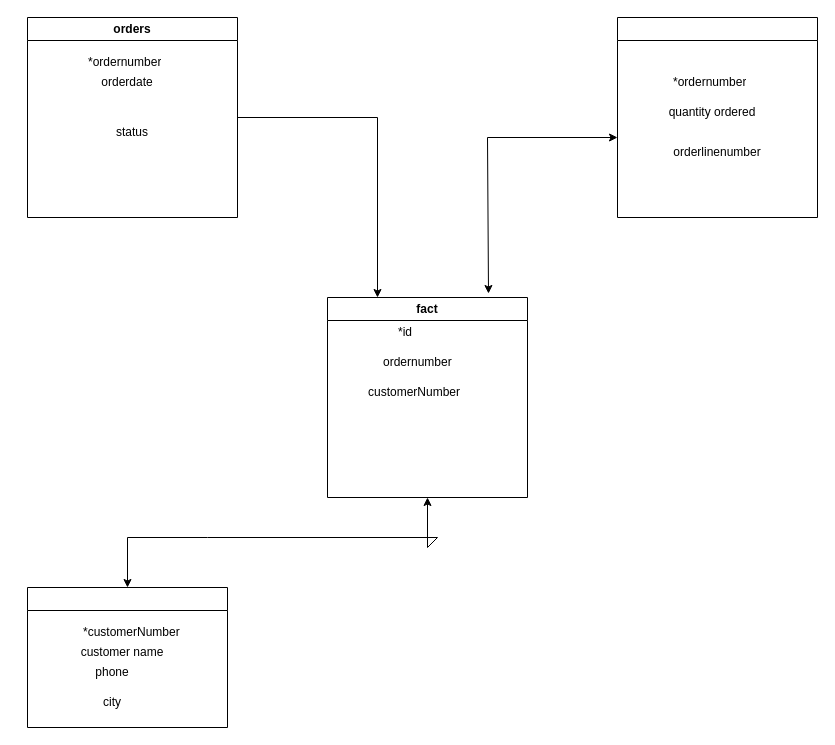
Some shapes in this 835 by 745 pixel diagram are drawn without their labels. The shapes that lost their labels are listed below. From the top down, each one's box as (x1, y1, x2, y2) in pixels, then its label:
(616, 16, 818, 218): orderdetail
(26, 586, 228, 728): costumer
